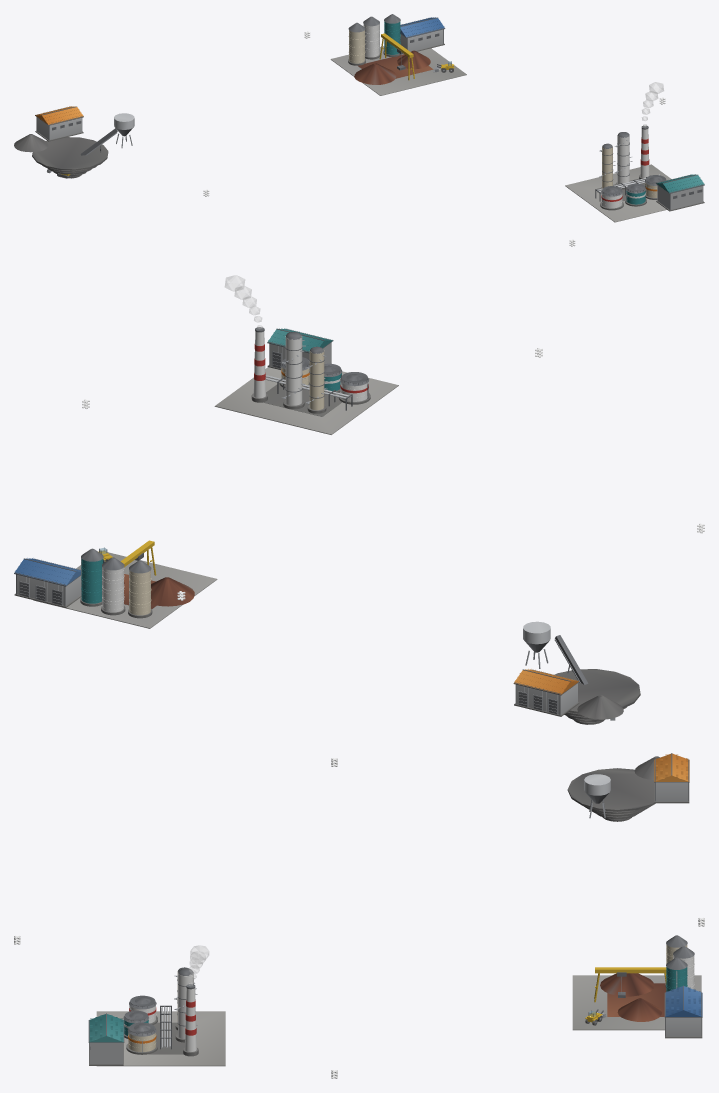
File: Sites_P3.fbx
The picture shows the model from 3 angles, top to bottom: view 1: azimuth 30°, elevation 25°; view 2: azimuth 150°, elevation 25°; view 3: azimuth 270°, elevation 25°; orthographic projection. The views are drawn at different scales.
Parts seen in each view (by area): view 1: Site.Store.Yard, Site.Quarry.Benches, Site.Plant.Pad, Site.Plant.Hall, Site.Quarry.Shed, Site.Store.Shed, Site.Plant.Col1, Site.Store.Silo0, Site.Store.Pile0, Site.Store.Silo1, Site.Store.Silo2, Site.Plant.Tank0 (+8 smaller); view 2: Site.Plant.Pad, Site.Store.Shed, Site.Store.Yard, Site.Quarry.Shed, Site.Quarry.Benches, Site.Plant.Col1, Site.Plant.Hall, Site.Store.Silo1, Site.Store.Silo0, Site.Store.Silo2, Site.Plant.Col0, Site.Store.Pile0 (+5 smaller); view 3: Site.Plant.Pad, Site.Store.Yard, Site.Quarry.Benches, Site.Store.Shed, Site.Plant.Hall, Site.Quarry.Shed, Site.Store.Pile0, Site.Plant.Tank2, Site.Plant.Stack, Site.Plant.Col1, Site.Store.Pile1, Site.Quarry.Hopper (+3 smaller).
Part boxes in pixels (x1=…): Site.Store.Yard: x1=330, y1=46, x2=466, y2=95; Site.Quarry.Benches: x1=32, y1=137, x2=108, y2=178; Site.Plant.Pad: x1=565, y1=164, x2=671, y2=222; Site.Plant.Hall: x1=656, y1=174, x2=704, y2=211; Site.Quarry.Shed: x1=35, y1=106, x2=83, y2=141; Site.Store.Shed: x1=400, y1=17, x2=445, y2=51; Site.Plant.Col1: x1=614, y1=132, x2=632, y2=189; Site.Store.Silo0: x1=348, y1=22, x2=365, y2=65; Site.Store.Pile0: x1=354, y1=63, x2=396, y2=84; Site.Store.Silo1: x1=363, y1=16, x2=380, y2=59; Site.Store.Silo2: x1=383, y1=14, x2=400, y2=56; Site.Plant.Tank0: x1=600, y1=186, x2=623, y2=210; Site.Plant.Pad: x1=214, y1=367, x2=398, y2=434; Site.Store.Shed: x1=14, y1=558, x2=81, y2=607; Site.Store.Yard: x1=33, y1=552, x2=217, y2=628; Site.Quarry.Shed: x1=513, y1=669, x2=579, y2=716; Site.Quarry.Benches: x1=554, y1=669, x2=640, y2=724; Site.Plant.Col1: x1=282, y1=331, x2=305, y2=409; Site.Plant.Hall: x1=267, y1=328, x2=333, y2=369; Site.Store.Silo1: x1=101, y1=557, x2=125, y2=615; Site.Store.Silo0: x1=128, y1=560, x2=152, y2=618; Site.Store.Silo2: x1=80, y1=548, x2=103, y2=606; Site.Plant.Col0: x1=306, y1=346, x2=327, y2=413; Site.Store.Pile0: x1=151, y1=577, x2=194, y2=606; Site.Plant.Pad: x1=96, y1=1011, x2=225, y2=1066; Site.Store.Yard: x1=572, y1=975, x2=701, y2=1030; Site.Quarry.Benches: x1=567, y1=768, x2=655, y2=821; Site.Store.Shed: x1=664, y1=985, x2=702, y2=1038; Site.Plant.Hall: x1=88, y1=1013, x2=124, y2=1065; Site.Quarry.Shed: x1=654, y1=753, x2=689, y2=803; Site.Store.Pile0: x1=600, y1=973, x2=654, y2=996; Site.Plant.Tank2: x1=126, y1=1022, x2=157, y2=1054; Site.Plant.Stack: x1=183, y1=984, x2=198, y2=1056; Site.Plant.Col1: x1=174, y1=968, x2=197, y2=1042; Site.Store.Pile1: x1=617, y1=998, x2=661, y2=1021; Site.Quarry.Hopper: x1=584, y1=774, x2=610, y2=818.
Size of the model in its own units: 31468 by 6102 by 27869.
